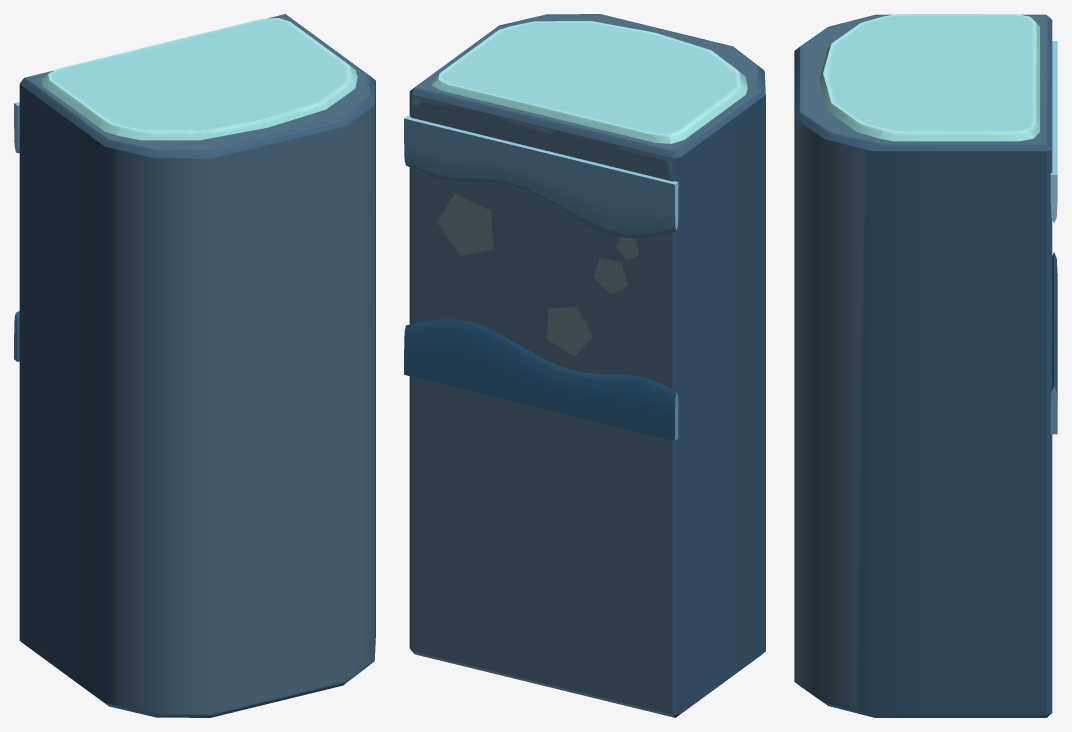
File: S2_InF_Wall_001.fbx
3 views of the same model, side by side, from view 1: azimuth 30°, elevation 25°; view 2: azimuth 150°, elevation 25°; view 3: azimuth 270°, elevation 25° (orthographic).
Parts seen in each view (by area): view 1: S2_InF_Wall_S; view 2: S2_InF_Wall_S; view 3: S2_InF_Wall_S.
Part boxes in pixels (left/top/right/bottom): S2_InF_Wall_S: left=14, top=14, right=375, bottom=717; S2_InF_Wall_S: left=404, top=14, right=765, bottom=717; S2_InF_Wall_S: left=794, top=14, right=1057, bottom=717.
Size of the model in its own units: 1 by 2.02 by 0.8313.
